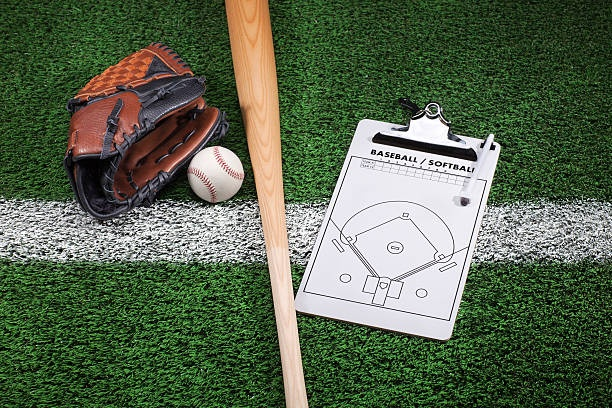bita: (224, 1, 312, 408)
